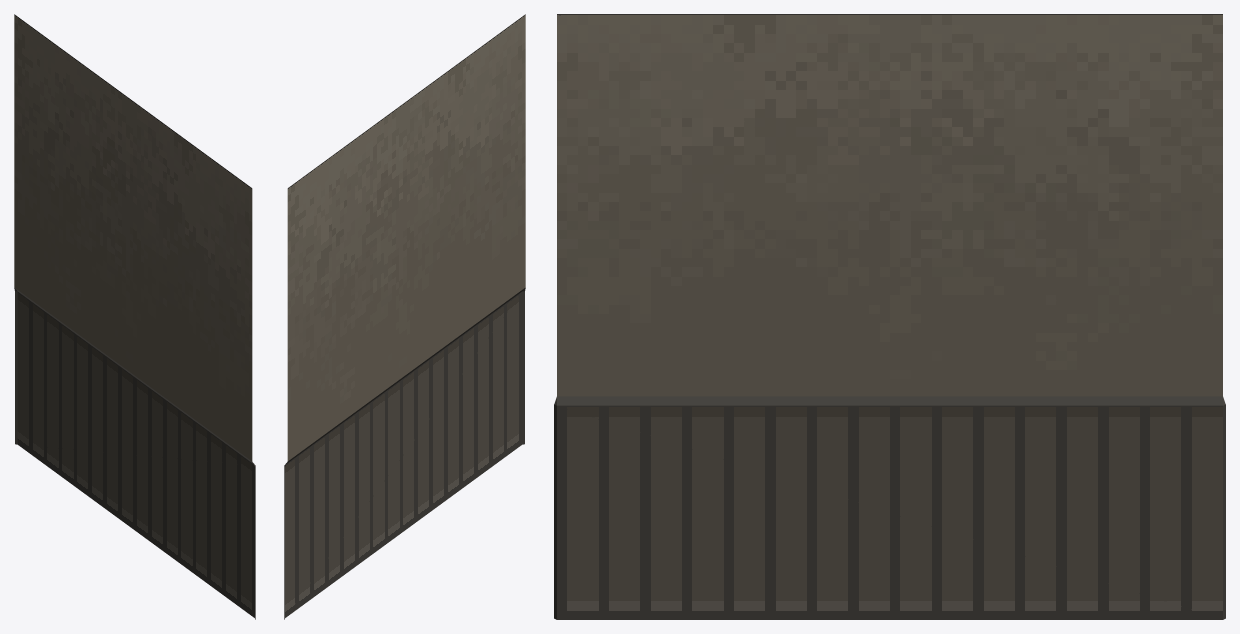
File: WallPlane.glb
The picture shows the model from 3 angles, left to right: view 1: azimuth 30°, elevation 25°; view 2: azimuth 150°, elevation 25°; view 3: azimuth 270°, elevation 25°; orthographic projection. The views are drawn at different scales.
Parts seen in each view (by area): view 1: WallPlane; view 2: WallPlane; view 3: WallPlane.
Boxes of the visible parts, x1=… form: WallPlane: x1=14, y1=14, x2=255, y2=619; WallPlane: x1=284, y1=14, x2=525, y2=619; WallPlane: x1=554, y1=14, x2=1225, y2=619.
Bounding box in the file's own units: 0.0342 × 4 × 4.03.
1 material, 1 textured.
